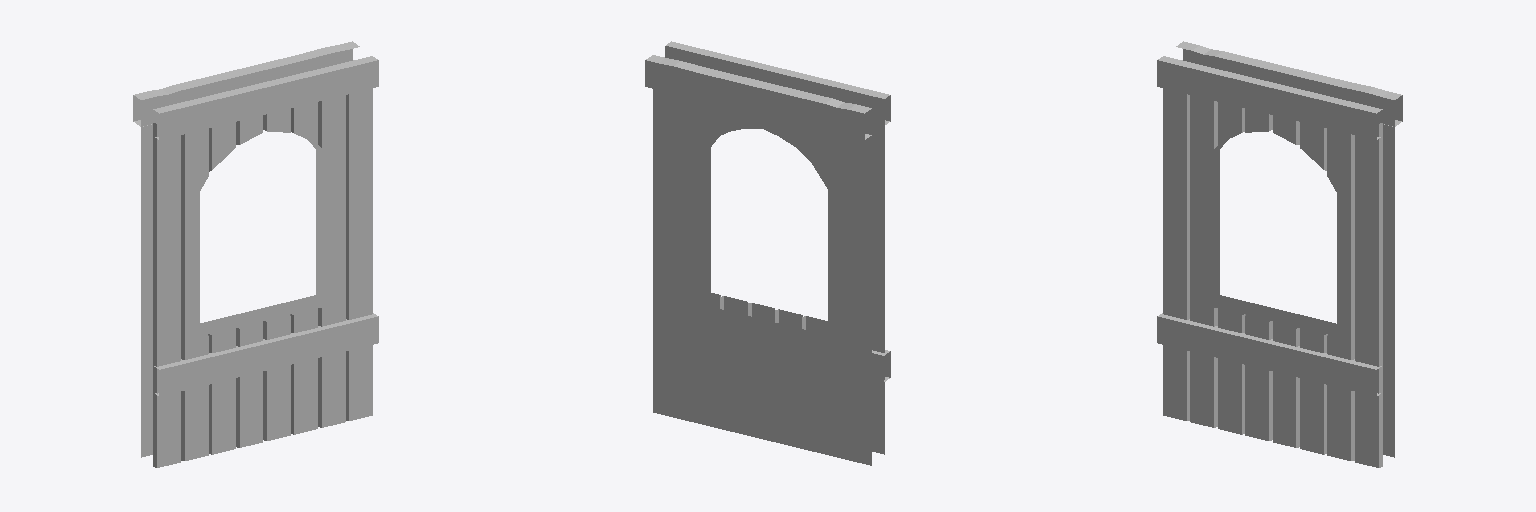
Rendered from Wall_WoodWear_Window_Wide_Round.obj.
3 renders of one model, left to right at view 1: azimuth 30°, elevation 25°; view 2: azimuth 150°, elevation 25°; view 3: azimuth 330°, elevation 25°, orthographic.
Visible parts, largest first — view 1: Wall_WoodWear_Window_Wide_Round; view 2: Wall_WoodWear_Window_Wide_Round; view 3: Wall_WoodWear_Window_Wide_Round.
Boxes of the visible parts, x1=… form: Wall_WoodWear_Window_Wide_Round: x1=133, y1=41, x2=378, y2=467; Wall_WoodWear_Window_Wide_Round: x1=645, y1=41, x2=890, y2=465; Wall_WoodWear_Window_Wide_Round: x1=1157, y1=41, x2=1402, y2=467.
Size of the model in its own units: 2 by 3.12 by 0.4065.